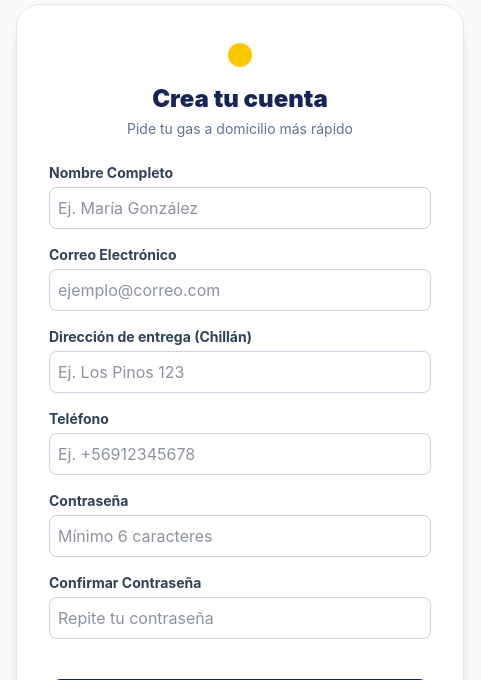
Registro › rechaza un correo que ya está registrado
This screenshot has width=481, height=680.
Step 1. Type "Pedro Soto" into the field labelled "Nombre Completo" → (240, 208), box 49,187 -> 431,229
Step 2. Type "juan.perez@email.com" into the field labelled "Correo Electrónico" → (240, 290), box 49,269 -> 431,311
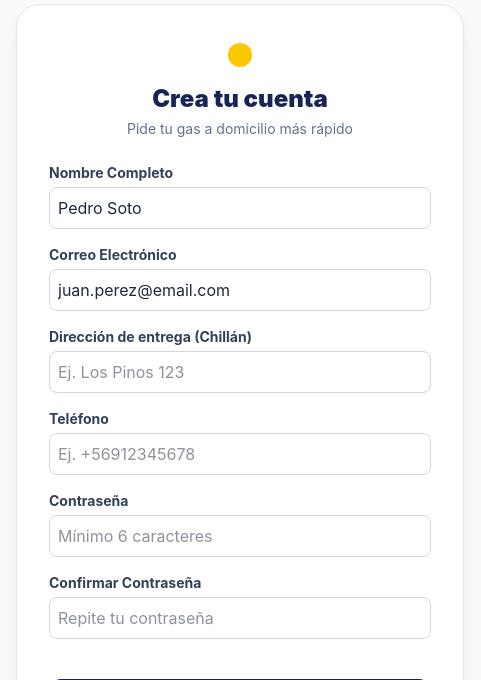
Step 3. Type "Los Robles 45" into the field labelled "Dirección de entrega (Chillán)" → (240, 372), box 49,351 -> 431,393
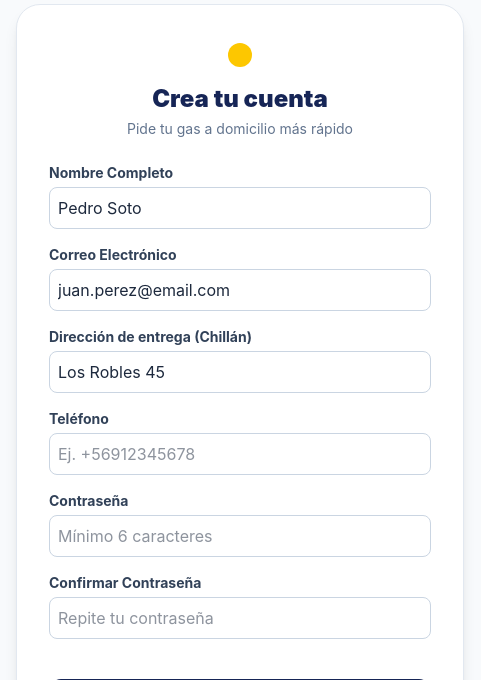
Step 4. Type "+56911112222" into the field labelled "Teléfono" → (240, 454), box 49,433 -> 431,475
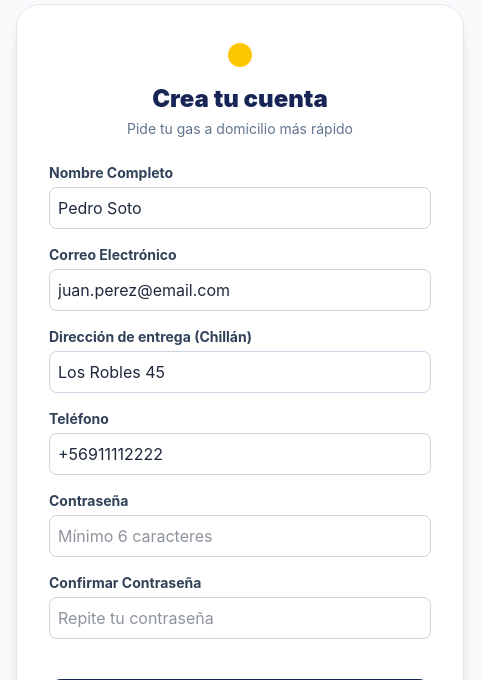
Step 5. Type "secreto1" into the password field labelled "Contraseña" → (240, 536), box 49,515 -> 431,557
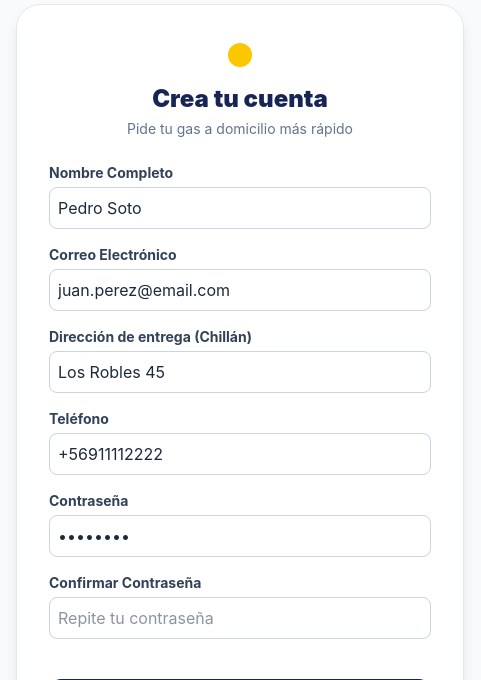
Step 6. Type "secreto1" into the password field labelled "Confirmar Contraseña" → (240, 618), box 49,597 -> 431,639
(page scrolled)
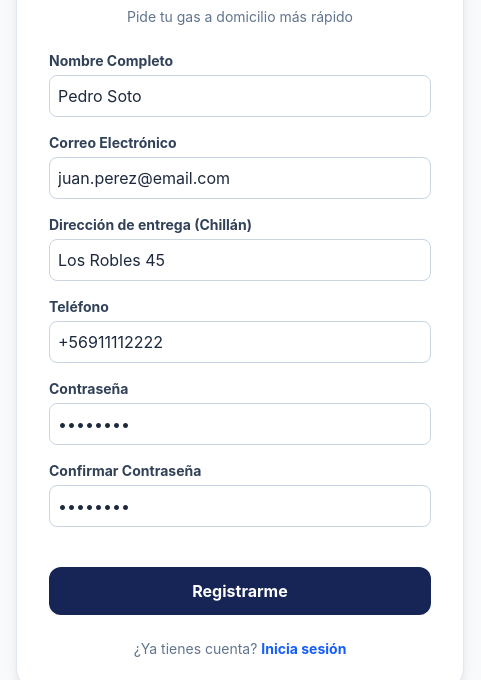
Step 7. Click the button "Registrarme" → (240, 591), box 49,567 -> 431,615
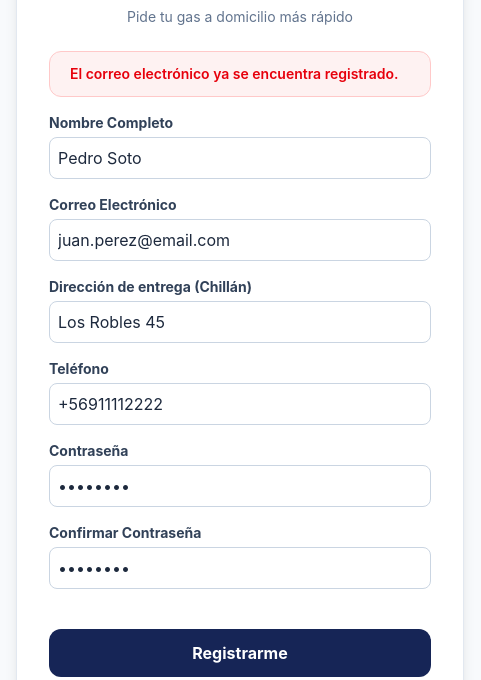
Expected: the text "El correo electrónico ya se encuentra registrado." is shown, 70,64 -> 398,84
